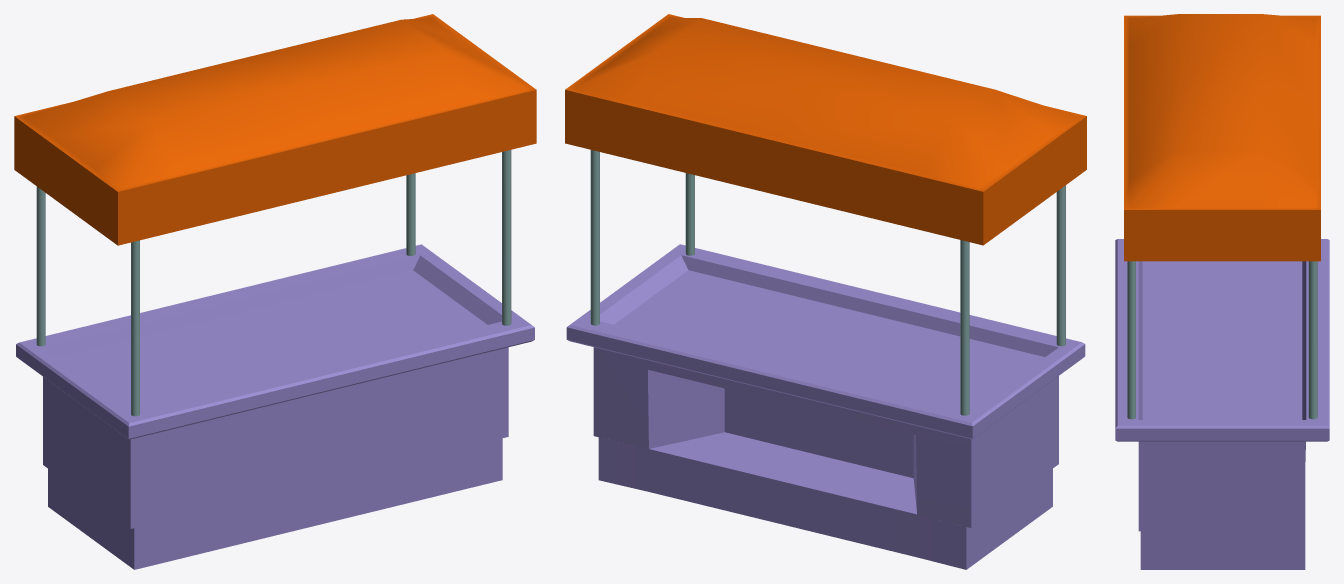
The model's file is hot_dog_stand_2.fbx.
3 renders of one model, left to right at view 1: azimuth 30°, elevation 25°; view 2: azimuth 150°, elevation 25°; view 3: azimuth 270°, elevation 25°, orthographic. The views are drawn at different scales.
Parts seen in each view (by area): view 1: stand_main; view 2: stand_main; view 3: stand_main.
Part boxes in pixels (x1,y1,x2,y2): stand_main: (14, 14, 536, 569); stand_main: (565, 14, 1086, 569); stand_main: (1115, 14, 1329, 569).
Bounding box in the file's own units: 257 × 248 × 119.
